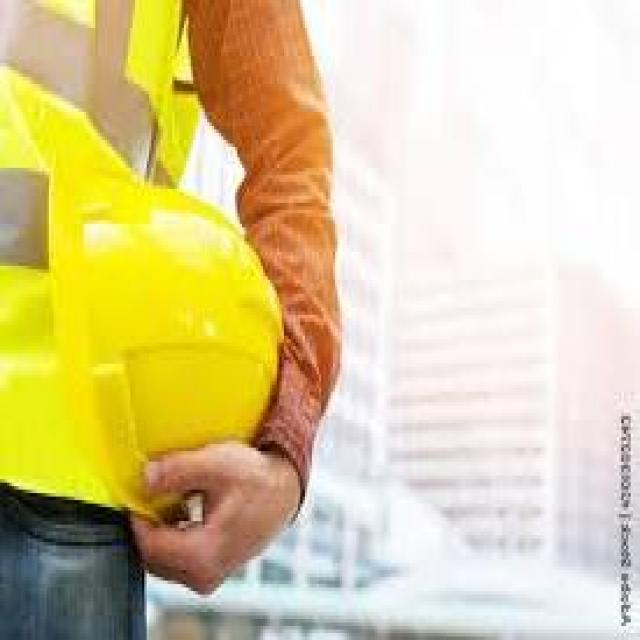Reflective-Jacket: (1, 1, 299, 535)
Safety-Helmet: (42, 172, 280, 499)
